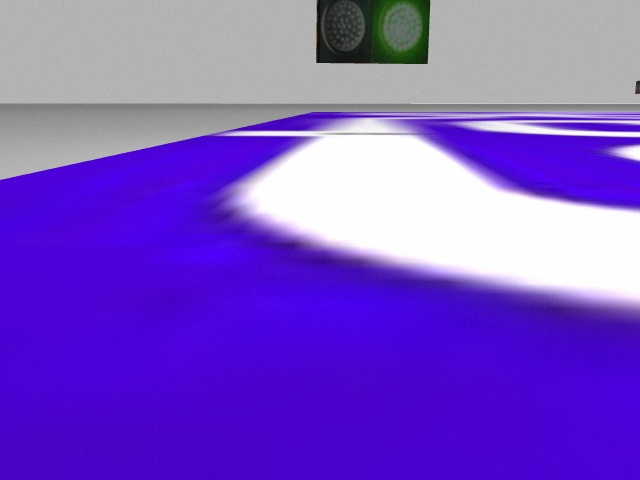green: (372, 3, 432, 66)
